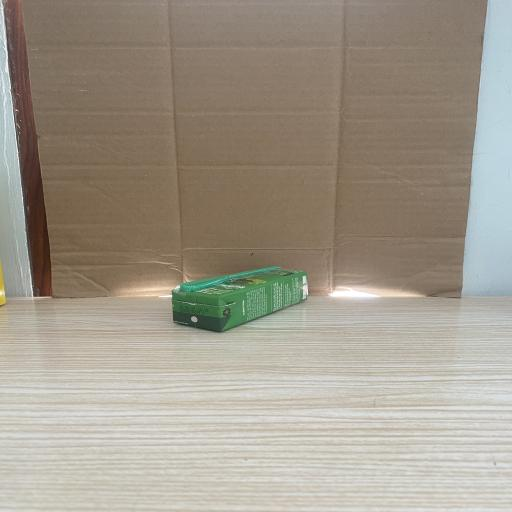milo: (172, 267, 308, 332)
